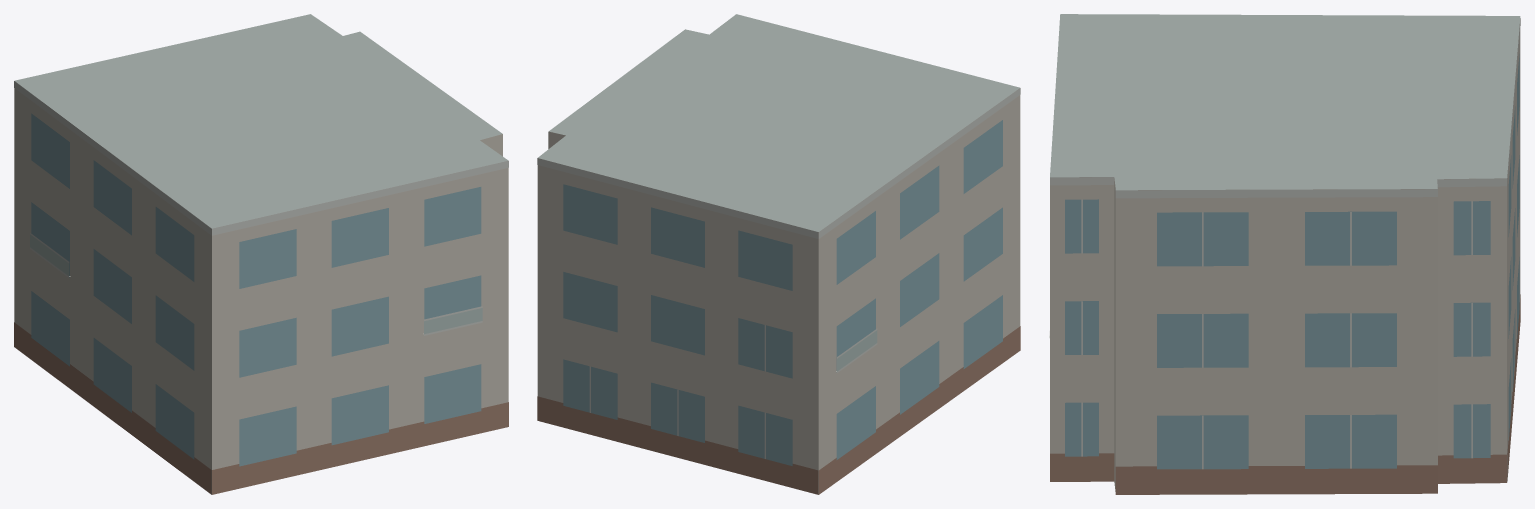
File: survey-upis-32479914.glb
The picture shows the model from 3 angles, left to right: view 1: azimuth 30°, elevation 25°; view 2: azimuth 150°, elevation 25°; view 3: azimuth 270°, elevation 25°; orthographic projection. The views are drawn at different scales.
Parts seen in each view (by area): view 1: survey-upis-32479914.tmp; view 2: survey-upis-32479914.tmp; view 3: survey-upis-32479914.tmp.
Part boxes in pixels (box(x1,y1,x2,y2)): survey-upis-32479914.tmp: box(14, 14, 508, 494); survey-upis-32479914.tmp: box(537, 14, 1020, 494); survey-upis-32479914.tmp: box(1049, 14, 1520, 494).
Size of the model in its own units: 11.36 by 9.15 by 12.83.
